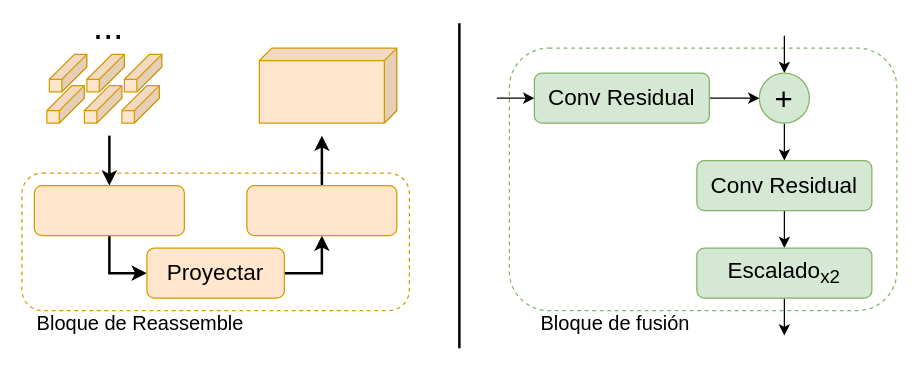
This 919x371 diagram has some shape labels left out. Here are the shapes that lost their labels. From the top down, the centre of each, then its label:
the point at 108,210: Concatenar
the point at 321,210: Escalado
